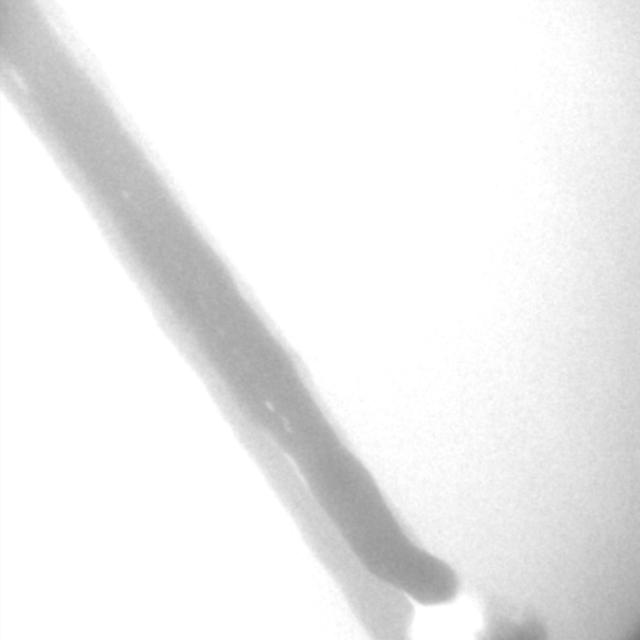air hole: (122, 188, 131, 200), (264, 400, 273, 410)
broken arc: (269, 437, 496, 637)
